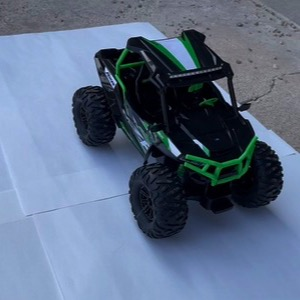polaris: (70, 29, 286, 241)
